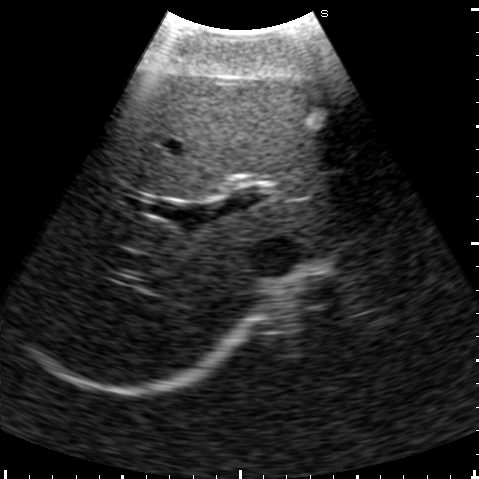IVC: (249, 237, 299, 277)
S1: (249, 199, 343, 251)
S3: (240, 68, 395, 196)
S4: (106, 73, 303, 202)
Tumor: (304, 107, 327, 129)
